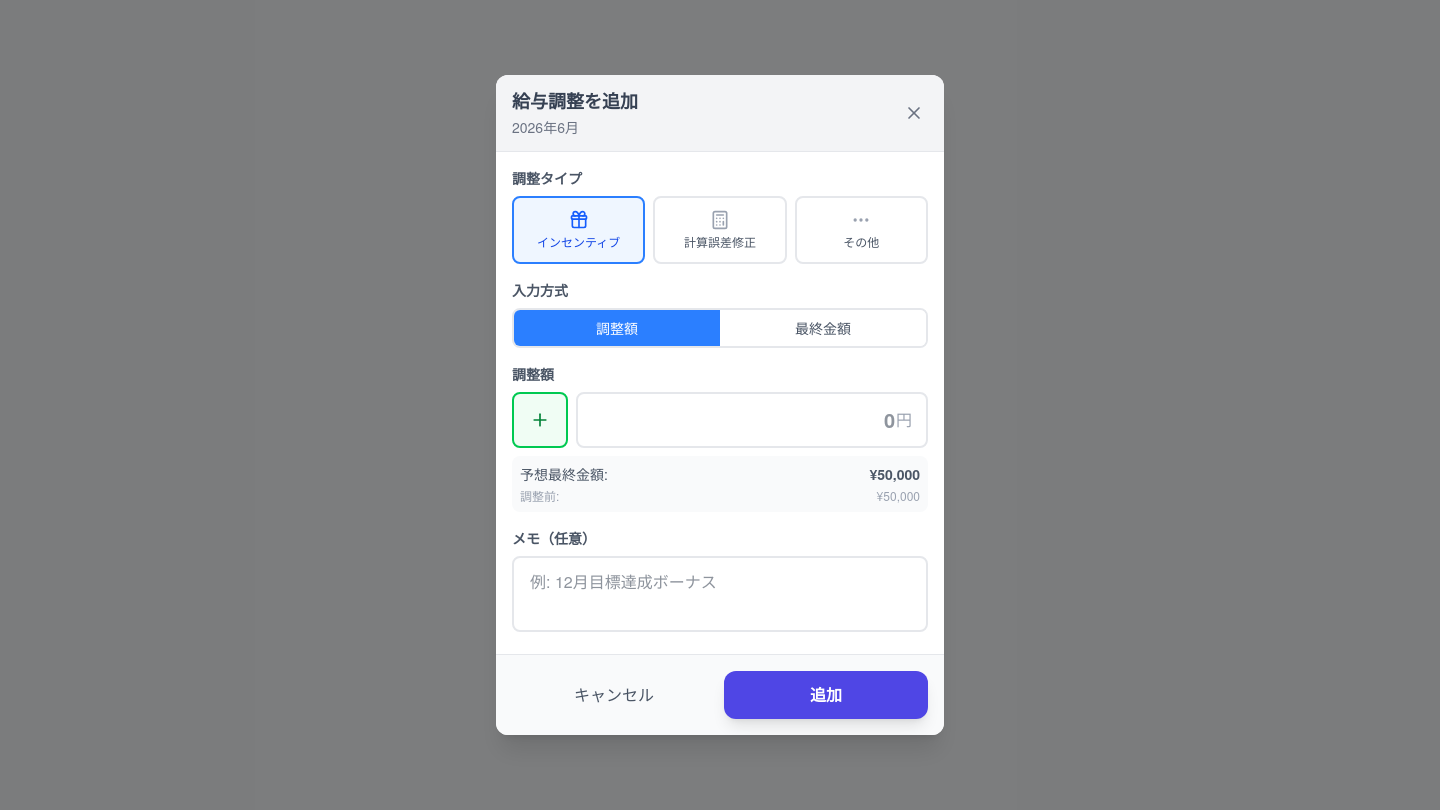
Test case: SalaryAdjustmentModal › 調整額モード › 入力額から予想最終金額を計算して表示する
The width and height of the screenshot is (1440, 810).
Step 1. Type "1000" into the number field → (752, 420), box [576,392,928,448]
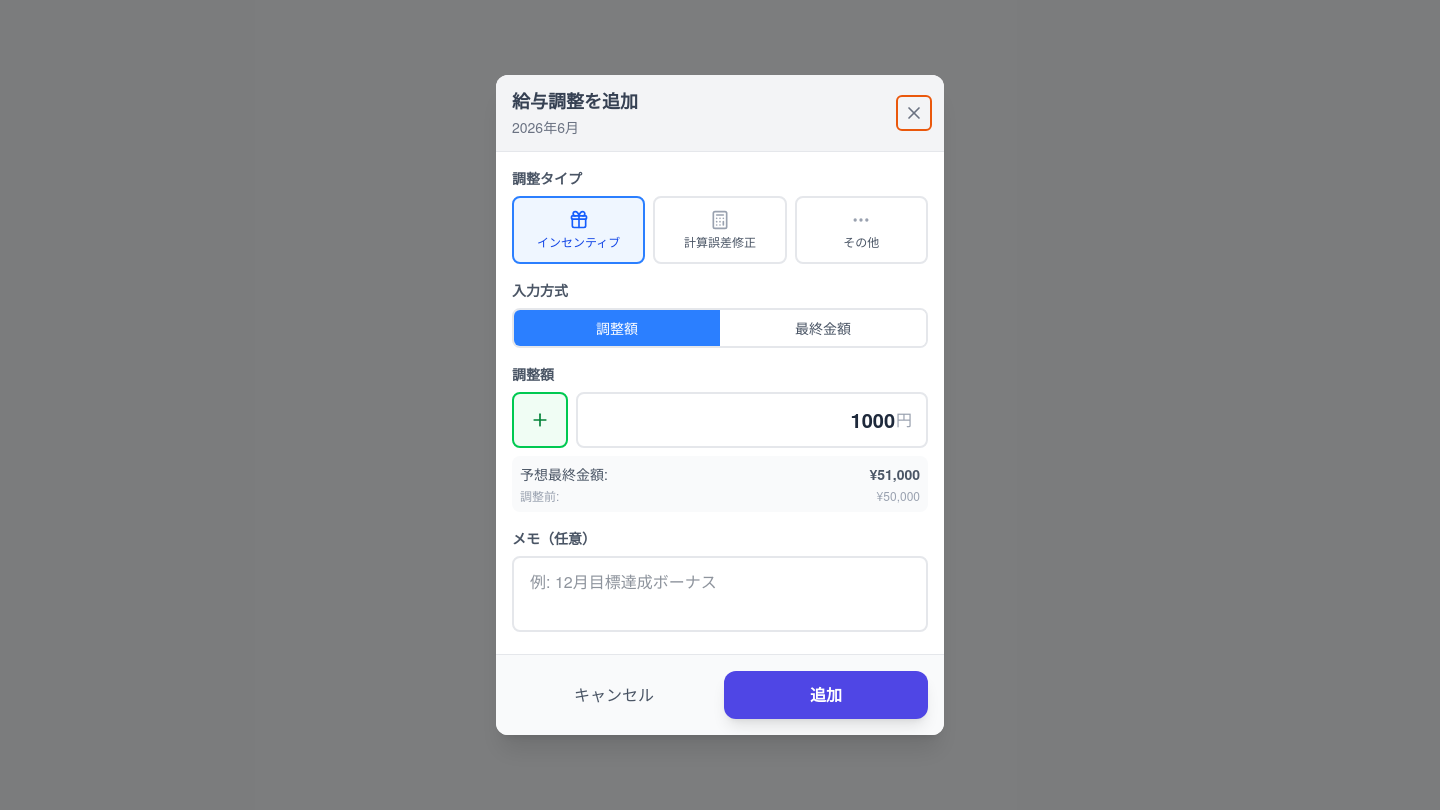
Check: the text "¥50,000" is shown, box [877,488,920,504]
Check: the text "¥51,000" is shown, box [869,464,920,484]
